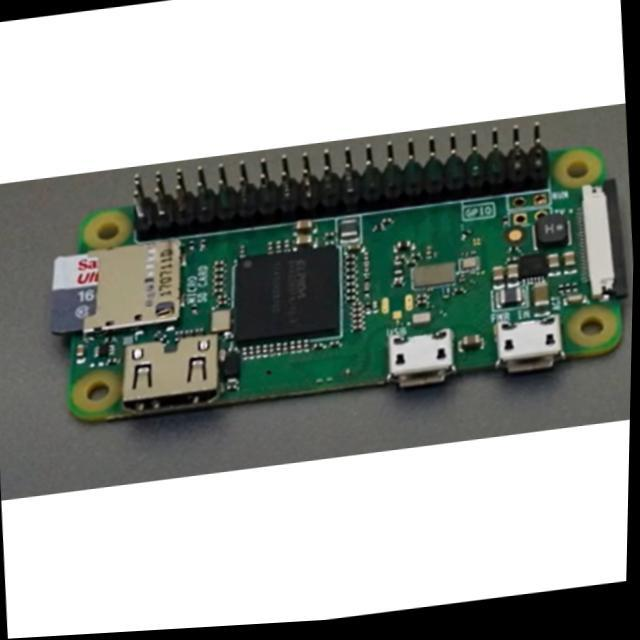Raspberry-Pi-Zero-WH: (53, 132, 625, 421)
